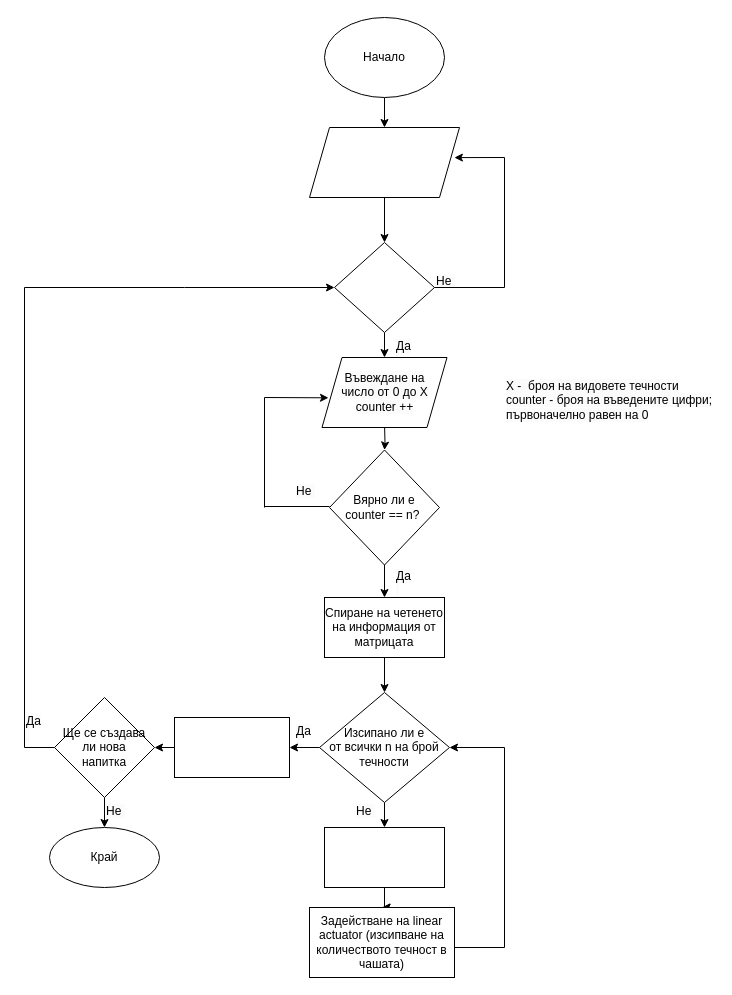
Some shapes in this 732 by 995 pixel diagram are drawn without their labels. The centre of each missing label's shape, as x and y in pixels:
"Въведено ли е число n" goes at [384,287].
"Известяване, че напитката е готова - buzzer" goes at [232,747].
"Прочитене на информация от 3x4 матрица" goes at [384,162].
"Стартиране на DC мотор (преместване на чашата под течността)" goes at [384,857].
